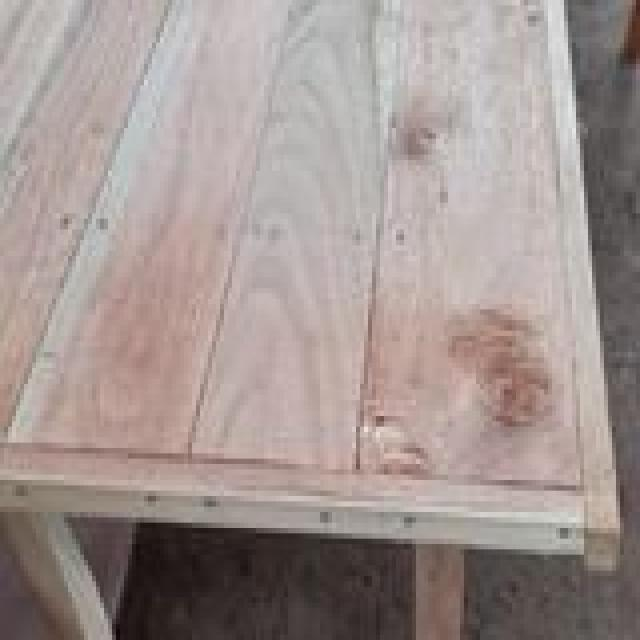others: (4, 5, 624, 576)
